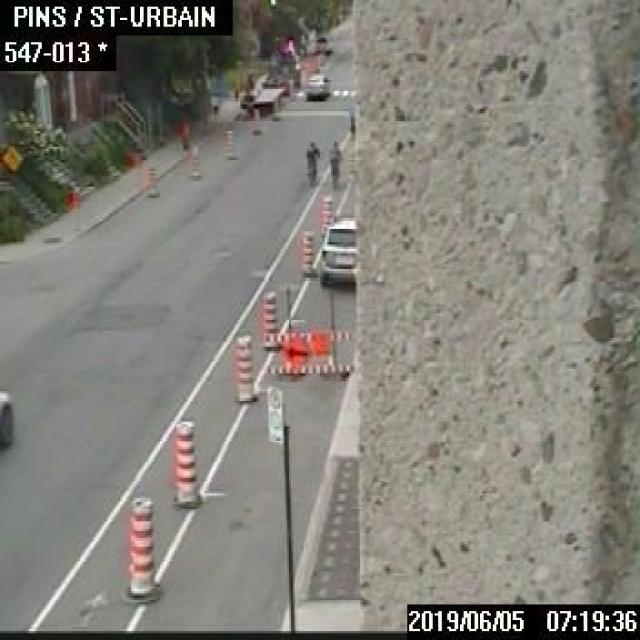construction: (260, 327, 352, 371), (127, 493, 153, 600), (171, 418, 196, 509), (229, 333, 253, 402), (260, 289, 278, 350), (60, 191, 80, 233), (318, 191, 333, 237), (300, 227, 314, 275), (120, 151, 136, 187), (173, 122, 187, 154), (144, 167, 158, 196), (187, 146, 198, 178), (226, 129, 237, 155), (253, 109, 260, 133), (312, 53, 319, 69)
cyclist: (328, 138, 342, 189), (303, 136, 318, 182), (348, 99, 356, 133)
vehicle: (243, 42, 303, 114), (318, 214, 354, 285), (0, 389, 15, 447), (305, 72, 330, 98), (313, 34, 332, 50)
